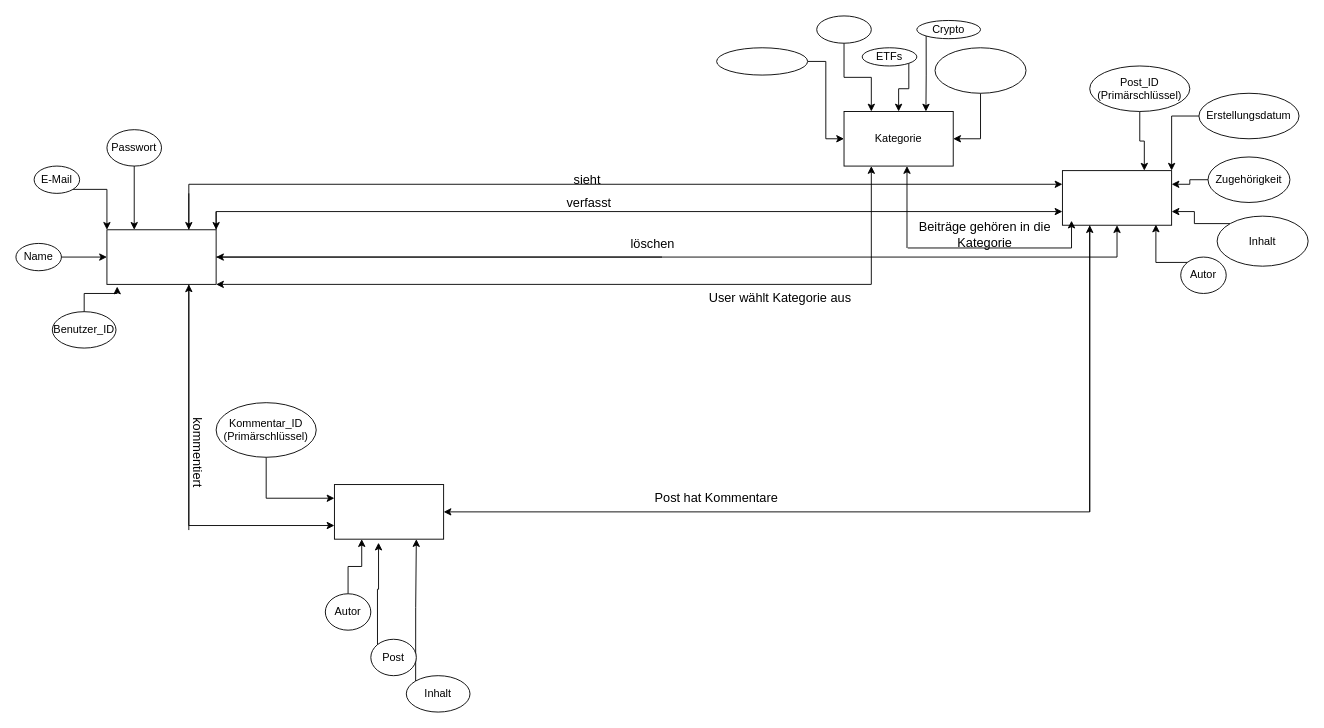
This 1324x728 diagram has some shape labels left out. The centre of each missing label's shape, as x and y in pixels:
"Aktien" belongs at [843,29].
"Beiträge" belongs at [1117,197].
"Immobilien" belongs at [762,61].
"Kategorie_ID (Primärschlüssel)" belongs at [980,70].
"Kommentare" belongs at [389,511].
"User" belongs at [161,256].
